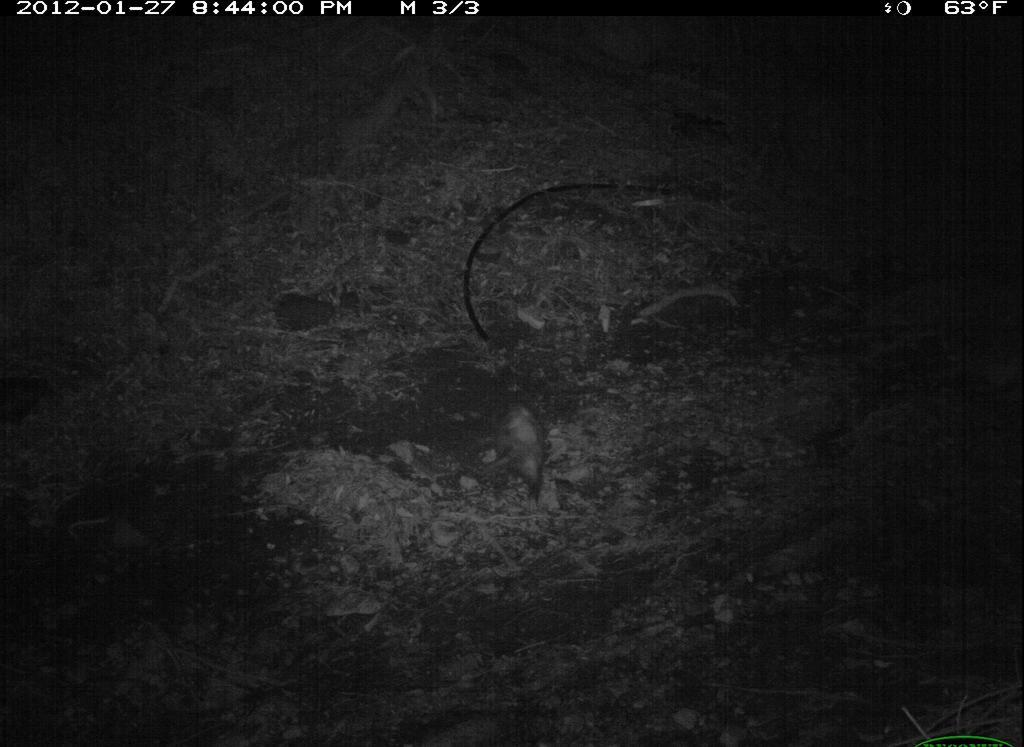opossum: (446, 383, 569, 505)
